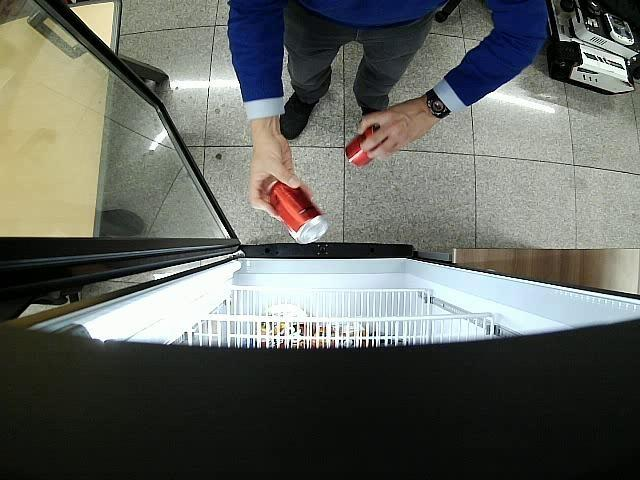11_cocaColaZero: (270, 180, 328, 244), (346, 125, 387, 167)
